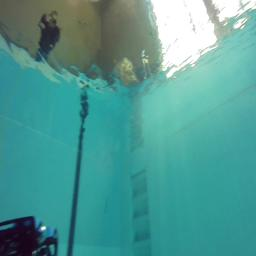front: (0, 216, 59, 256)
